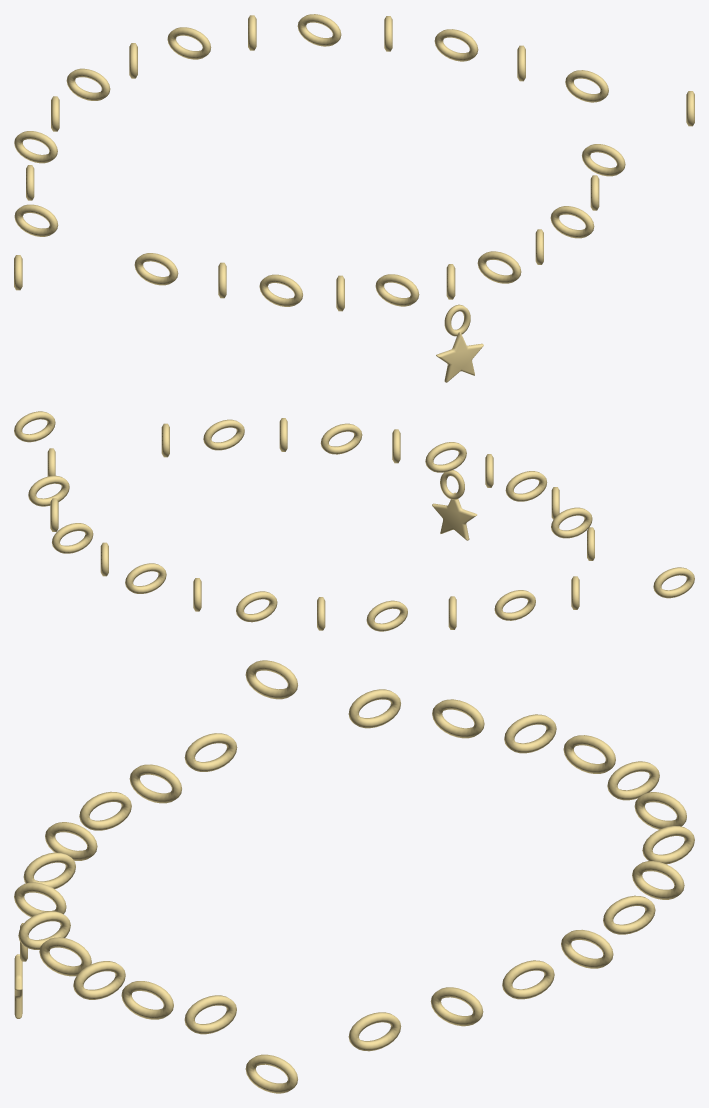
File: chain_gold_pig_tailored.glb
The picture shows the model from 3 angles, top to bottom: view 1: azimuth 30°, elevation 25°; view 2: azimuth 150°, elevation 25°; view 3: azimuth 270°, elevation 25°; orthographic projection. The views are drawn at different scales.
Parts seen in each view (by area): view 1: Estrella.002, Eslabón.077, Eslabón.065, Eslabón.057, Eslabón.067, Eslabón.053, Eslabón.059, Eslabón.063, Eslabón.069, Eslabón.075, Eslabón.071, Eslabón.061 (+2 smaller); view 2: Estrella.002, Eslabón.072, Eslabón.056, Eslabón.070, Eslabón.074, Eslabón.052, Eslabón.054, Eslabón.068, Eslabón.058, Eslabón.062, Eslabón.064, Eslabón.066 (+3 smaller); view 3: Eslabón.060, Eslabón.055, Eslabón.058, Eslabón.072, Eslabón.061, Eslabón.071, Eslabón.057, Eslabón.064, Eslabón.069, Eslabón.062, Eslabón.059, Eslabón.070 (+14 smaller).
Boxes of the visible parts, x1,y1,x2,y2 form: Estrella.002: (436,332,483,382); Eslabón.077: (375,274,419,306); Eslabón.065: (167,27,211,59); Eslabón.057: (582,144,625,176); Eslabón.067: (66,68,110,100); Eslabón.053: (477,251,521,283); Eslabón.059: (565,70,608,102); Eslabón.063: (297,14,341,46); Eslabón.069: (14,131,57,163); Eslabón.075: (259,274,302,306); Eslabón.071: (14,204,58,236); Eslabón.061: (434,29,478,61); Estrella.002: (432,492,477,540); Eslabón.072: (653,567,694,598); Eslabón.056: (203,419,244,450); Eslabón.070: (494,590,535,620); Eslabón.074: (551,507,592,538); Eslabón.052: (425,442,466,472); Eslabón.054: (320,423,362,454); Eslabón.068: (366,600,407,631); Eslabón.058: (14,411,55,442); Eslabón.062: (52,523,93,553); Eslabón.064: (125,563,166,593); Eslabón.066: (236,591,277,622); Eslabón.060: (430,987,483,1026); Eslabón.055: (73,961,125,999); Eslabón.058: (245,1054,297,1093); Eslabón.072: (245,660,297,699); Eslabón.061: (502,960,554,999); Eslabón.071: (348,689,400,728); Eslabón.057: (184,995,236,1034); Eslabón.064: (632,861,684,899); Eslabón.069: (504,714,556,753); Eslabón.062: (561,929,613,968); Eslabón.059: (348,1012,401,1051); Eslabón.070: (432,699,484,738).
Bounding box in the file's own units: 0.7125 × 0.1488 × 0.5022.
